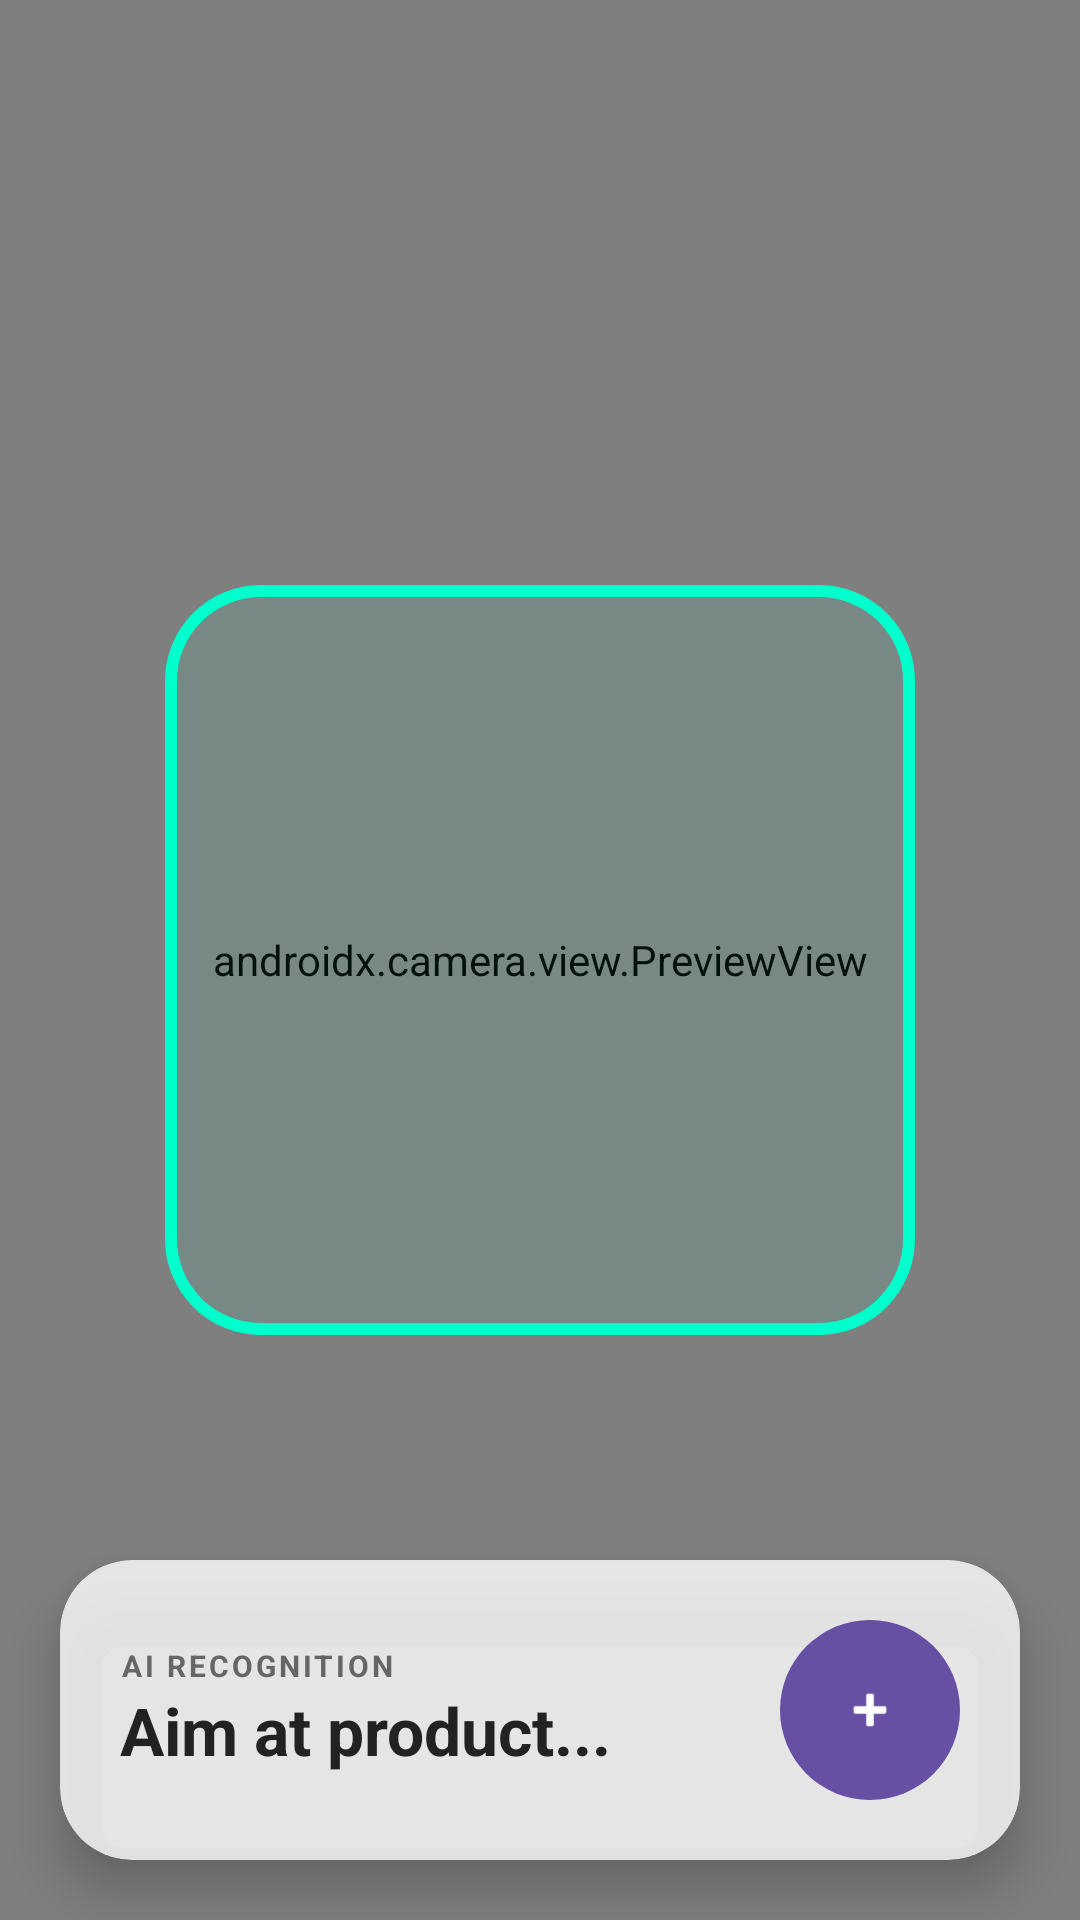

Named icons in this screenshot (1080×1920) and their bounding boxes, {"x1": x1, "y1": y1, "x2": x2, "y2": y2}:
add: {"x1": 780, "y1": 1620, "x2": 960, "y2": 1800}
